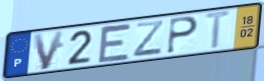2: (68, 29, 95, 67)
E: (97, 22, 134, 65)
P: (165, 15, 200, 55)
T: (203, 9, 235, 52)
V: (31, 28, 67, 72)
Z: (132, 18, 166, 58)
